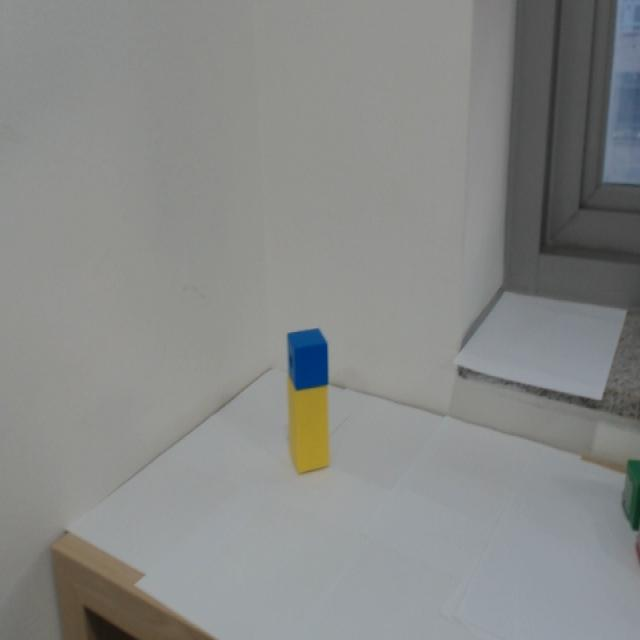cube: (286, 328, 329, 390)
